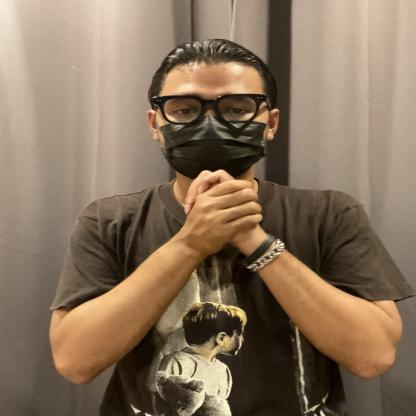Grieve: (78, 154, 340, 282)
